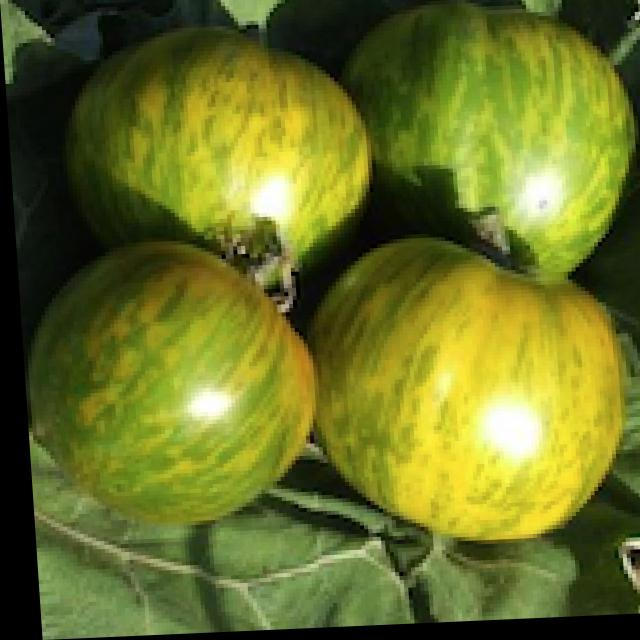yesil: (10, 37, 640, 574)
